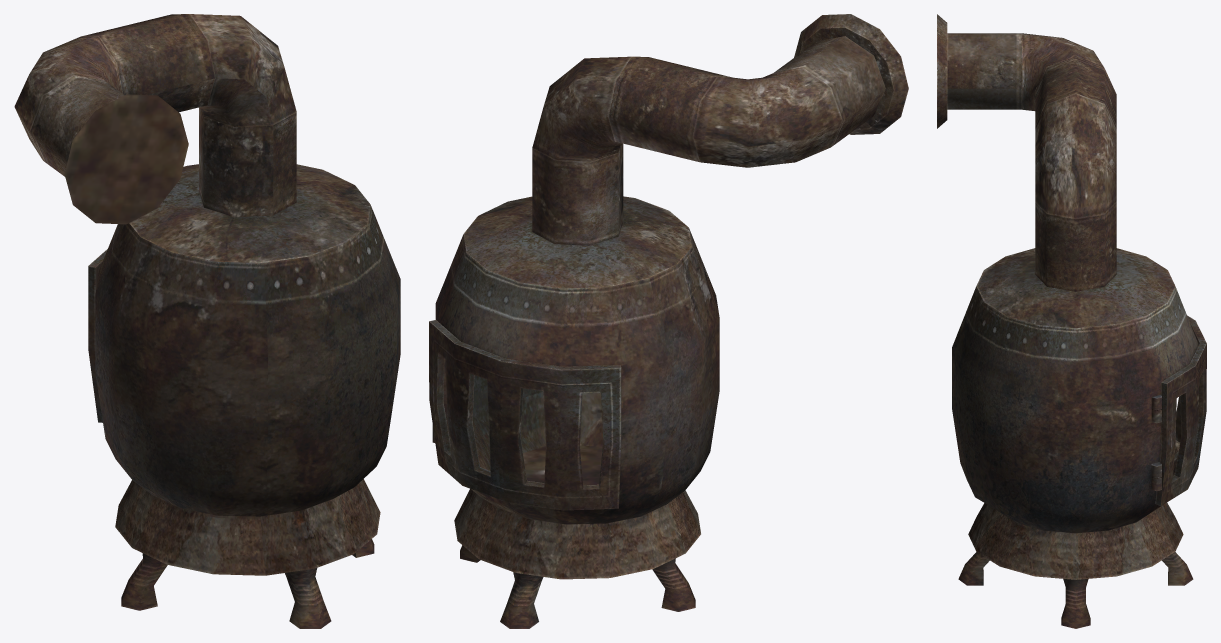
File: stove_metal_rust.dae
3 views of the same model, side by side, from view 1: azimuth 30°, elevation 25°; view 2: azimuth 150°, elevation 25°; view 3: azimuth 270°, elevation 25° (orthographic). The views are drawn at different scales.
Visible parts, largest first — view 1: Stove01_PIVOT, Stove07_PIVOT, Stove03_PIVOT, Stove04_PIVOT, Stove05_PIVOT, Stove06_PIVOT, Stove02; view 2: Stove01_PIVOT, Stove02, Stove06_PIVOT, Stove07_PIVOT, Stove05_PIVOT, Stove03_PIVOT, Stove04_PIVOT; view 3: Stove01_PIVOT, Stove04_PIVOT, Stove07_PIVOT, Stove02, Stove03_PIVOT, Stove05_PIVOT, Stove06_PIVOT.
Boxes of the visible parts, x1=… form: Stove01_PIVOT: x1=95, y1=164, x2=400, y2=628; Stove07_PIVOT: x1=30, y1=75, x2=188, y2=224; Stove03_PIVOT: x1=199, y1=108, x2=296, y2=217; Stove04_PIVOT: x1=190, y1=14, x2=296, y2=126; Stove05_PIVOT: x1=81, y1=14, x2=214, y2=112; Stove06_PIVOT: x1=14, y1=36, x2=122, y2=159; Stove02: x1=88, y1=249, x2=107, y2=422; Stove01_PIVOT: x1=435, y1=196, x2=719, y2=628; Stove02: x1=429, y1=320, x2=621, y2=510; Stove06_PIVOT: x1=693, y1=67, x2=842, y2=167; Stove07_PIVOT: x1=774, y1=14, x2=908, y2=146; Stove05_PIVOT: x1=608, y1=56, x2=732, y2=162; Stove03_PIVOT: x1=532, y1=144, x2=623, y2=246; Stove04_PIVOT: x1=532, y1=56, x2=631, y2=161; Stove01_PIVOT: x1=952, y1=248, x2=1198, y2=628; Stove04_PIVOT: x1=1035, y1=93, x2=1116, y2=218; Stove07_PIVOT: x1=937, y1=14, x2=1021, y2=128; Stove02: x1=1151, y1=315, x2=1206, y2=505; Stove03_PIVOT: x1=1035, y1=202, x2=1116, y2=291; Stove05_PIVOT: x1=1035, y1=57, x2=1116, y2=129; Stove06_PIVOT: x1=1022, y1=33, x2=1104, y2=110.
Size of the model in its own units: 1.1 by 0.7953 by 1.56.
1 material, 1 textured.
